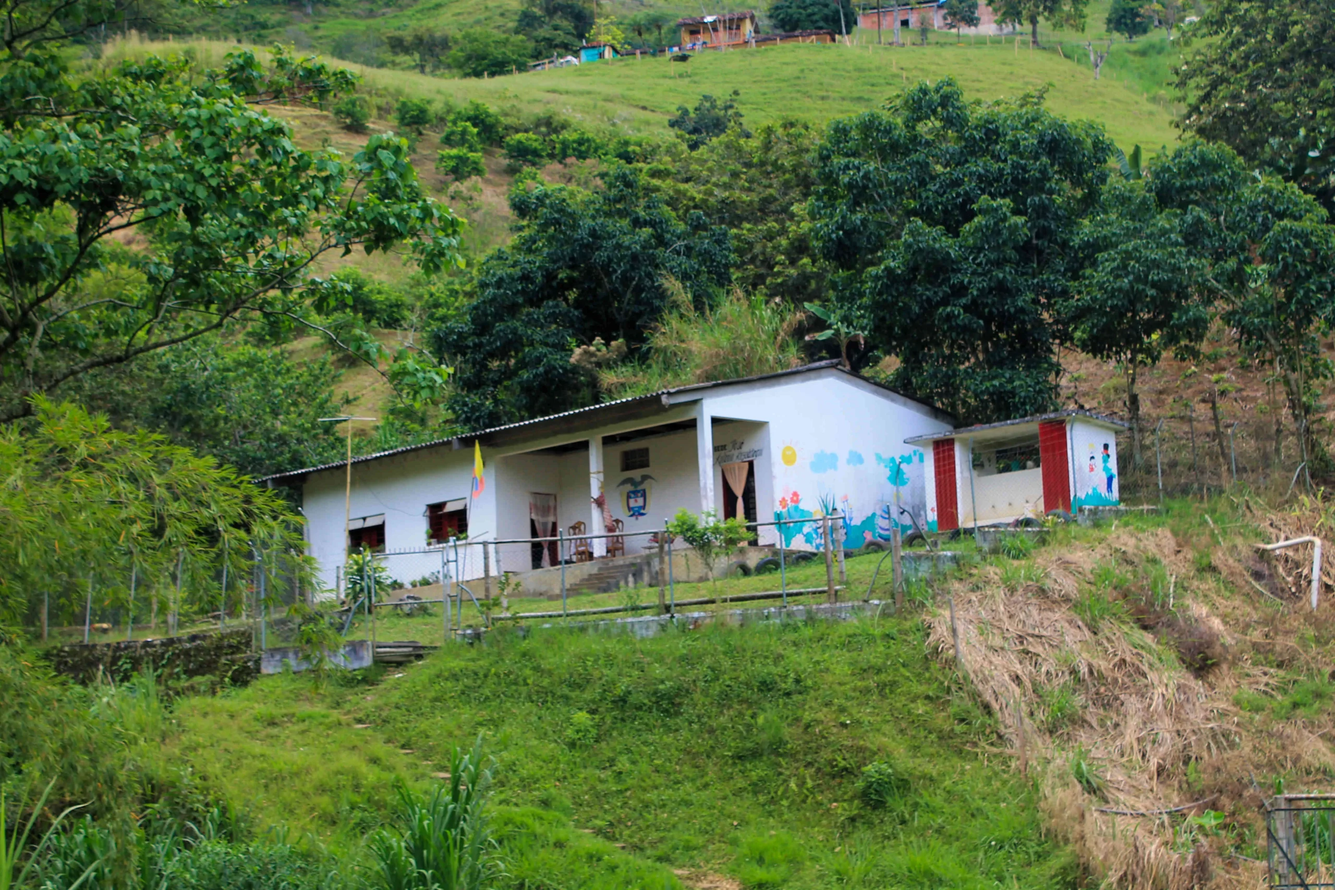House: (246, 420, 1166, 562)
